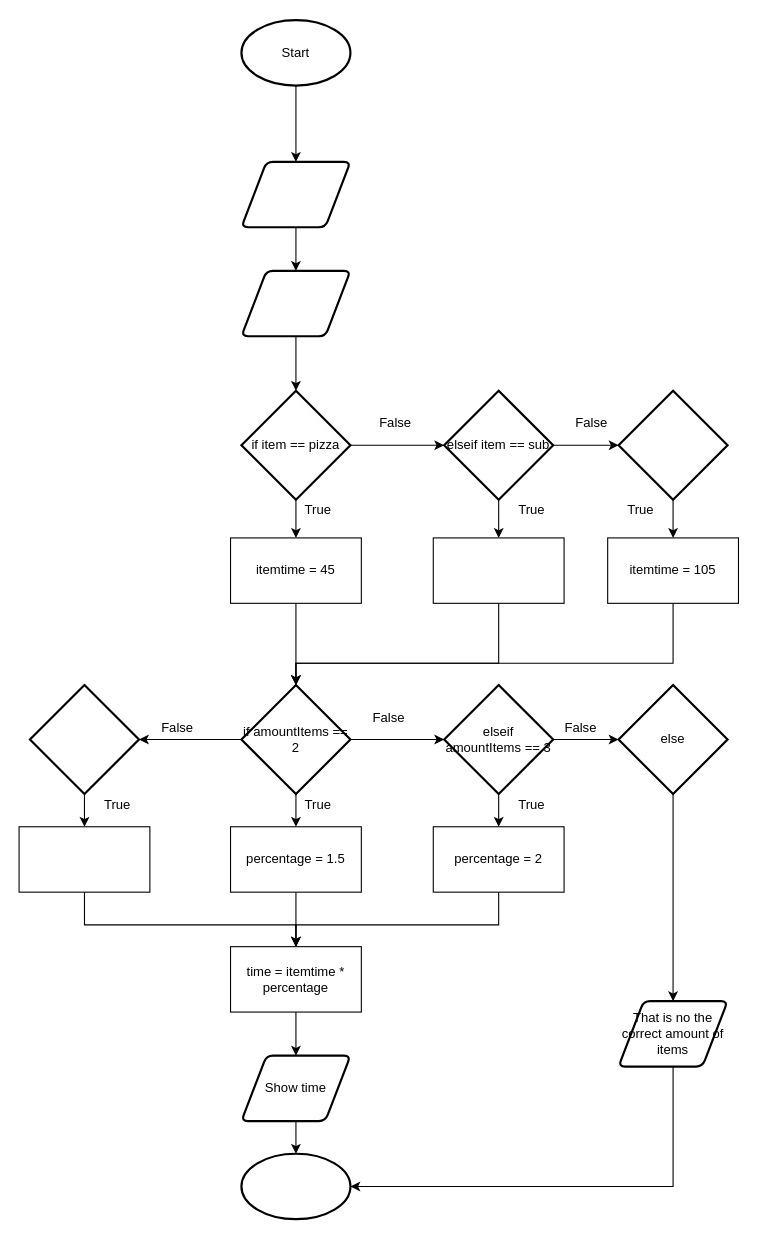
Some shapes in this 758 by 1238 pixel diagram are drawn without their labels. Each missing label, with the centre of its shape:
"elseif == soup" belongs at [672,444].
"elseif amountItems == 1" belongs at [84,739].
"Get amountItems" belongs at [295,303].
"Get item" belongs at [295,194].
"itemtime = 60" belongs at [498,570].
"percentage = 1" belongs at [84,859].
"Stop" belongs at [295,1186].
